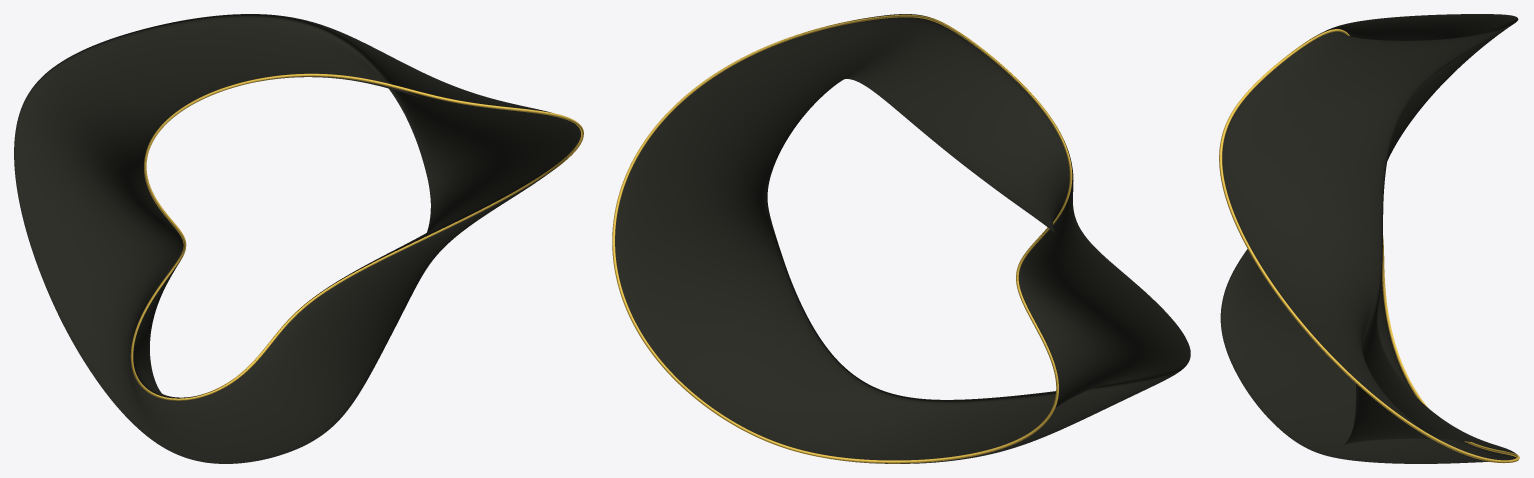
File: unda-sculpture-master.glb
The picture shows the model from 3 angles, left to right: view 1: azimuth 30°, elevation 25°; view 2: azimuth 150°, elevation 25°; view 3: azimuth 270°, elevation 25°; orthographic projection. The views are drawn at different scales.
Parts seen in each view (by area): view 1: Ribbon_1, Ribbon_2, Ribbon_0, Gold_Seam; view 2: Ribbon_2, Ribbon_0, Ribbon_1, Gold_Seam; view 3: Ribbon_0, Ribbon_2, Ribbon_1, Gold_Seam.
Boxes of the visible parts, left/top/right/bottom form: Ribbon_1: left=14, top=43, right=231, bottom=463; Ribbon_2: left=157, top=154, right=567, bottom=463; Ribbon_0: left=99, top=14, right=580, bottom=188; Gold_Seam: left=130, top=73, right=583, bottom=400; Ribbon_2: left=615, top=176, right=1104, bottom=463; Ribbon_0: left=628, top=14, right=1044, bottom=210; Ribbon_1: left=966, top=110, right=1190, bottom=434; Gold_Seam: left=612, top=14, right=1072, bottom=463; Ribbon_0: left=1222, top=15, right=1505, bottom=383; Ribbon_2: left=1228, top=322, right=1516, bottom=463; Ribbon_1: left=1220, top=14, right=1518, bottom=359; Gold_Seam: left=1219, top=29, right=1519, bottom=463.
Bounding box in the file's own units: 3.61 × 2.5 × 1.72.
